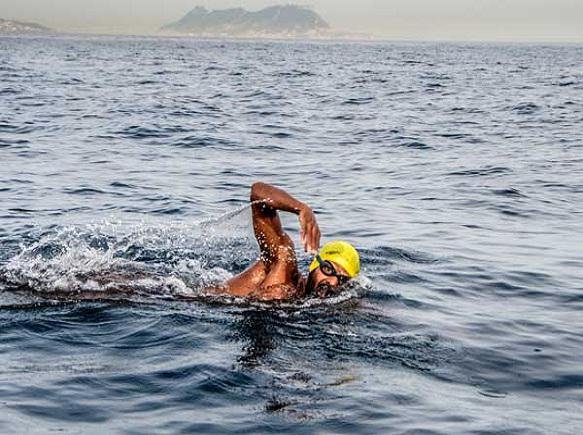human: (212, 180, 359, 309)
